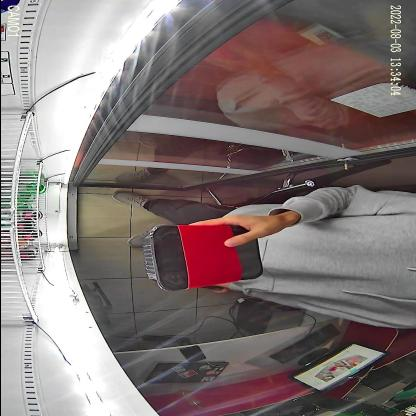red: (140, 224, 264, 292)
